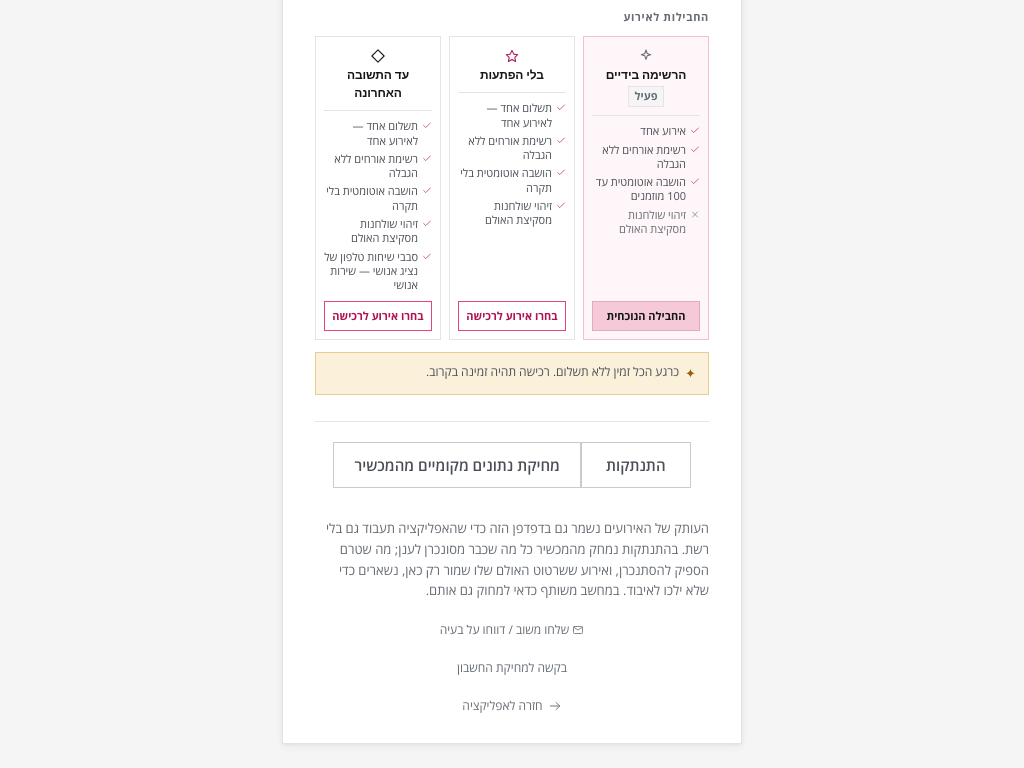
Test: AccountScreen — clearing the local copy names what would be lost (audit 3.10, L1) › does not promise that a floor-plan sketch comes back from the cloud
(page scrolled)
Step 1. Click the button "מחיקת נתונים מקומיים מהמכשיר" → (457, 465), box [334,442,581,488]
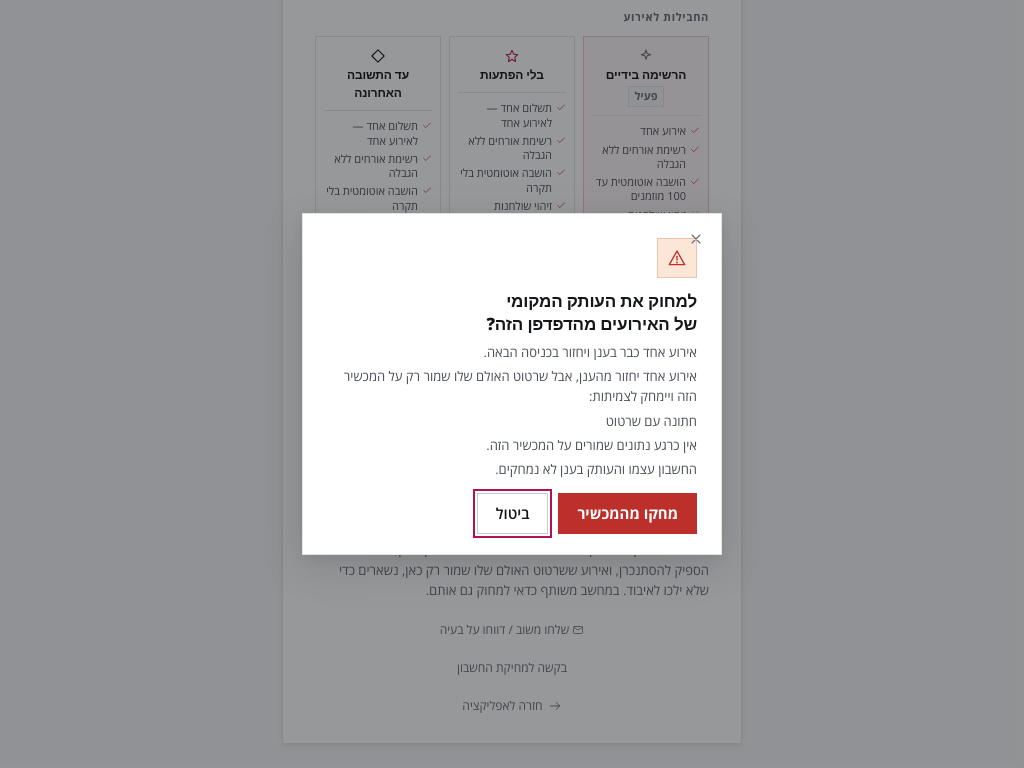
expect the text "למחוק את העותק המקומי" shows "אירוע אחד כבר בענן": met, box [484,343,697,361]
expect the text "למחוק את העותק המקומי" shows "שרטוט האולם שלו שמור רק על המכשיר הזה": met, box [344,367,697,405]
expect the text "למחוק את העותק המקומי" shows "חתונה עם שרטוט": met, box [606,412,697,430]
